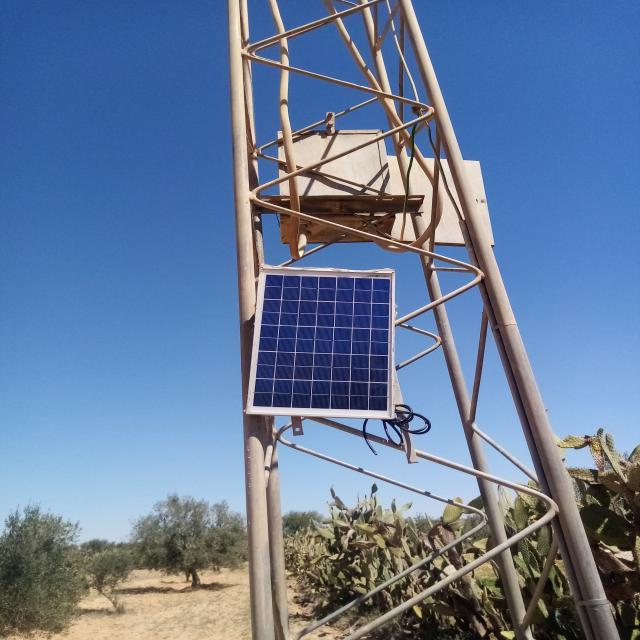no faulty: (248, 268, 394, 417)
